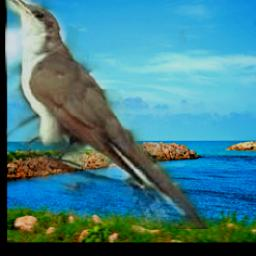Cuckoo: (5, 0, 208, 229)
